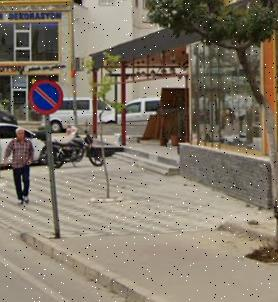nopark: (32, 82, 62, 113)
